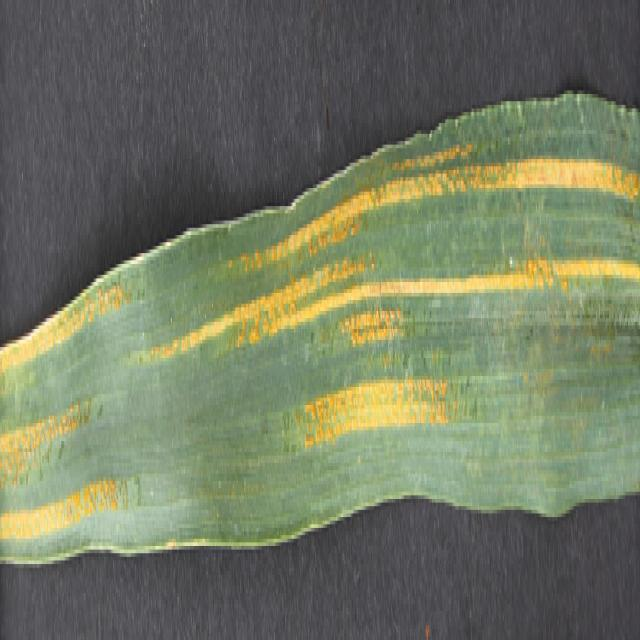leaf rust: (146, 130, 640, 441), (0, 260, 134, 546)
